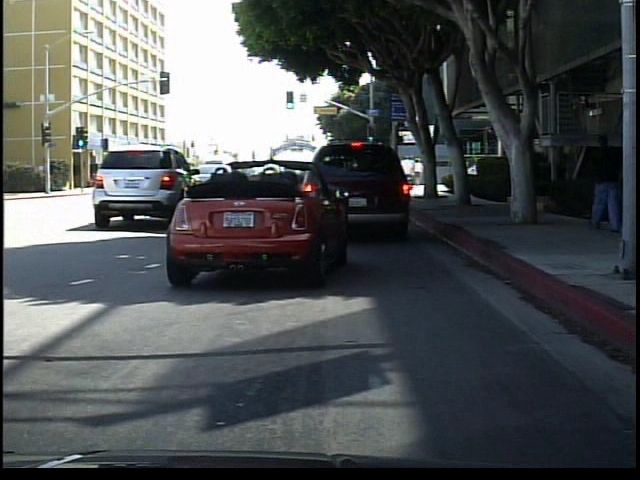person: (583, 132, 622, 239), (513, 142, 544, 224)
